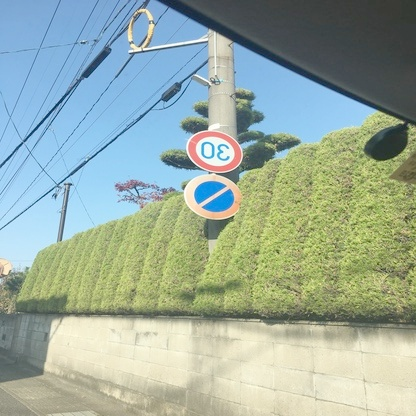Prohibition_sign: (175, 167, 246, 224)
Speed_sign: (186, 125, 245, 178)
